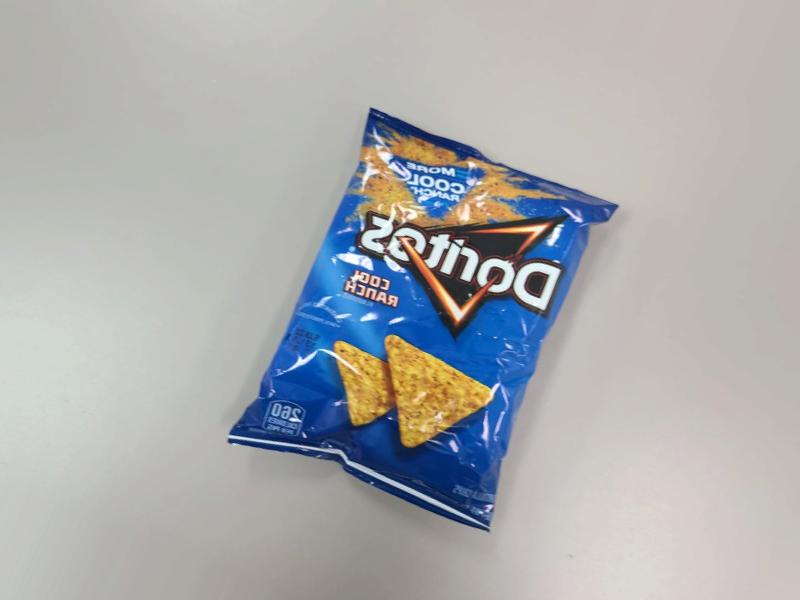doritos: (238, 172, 692, 600)
